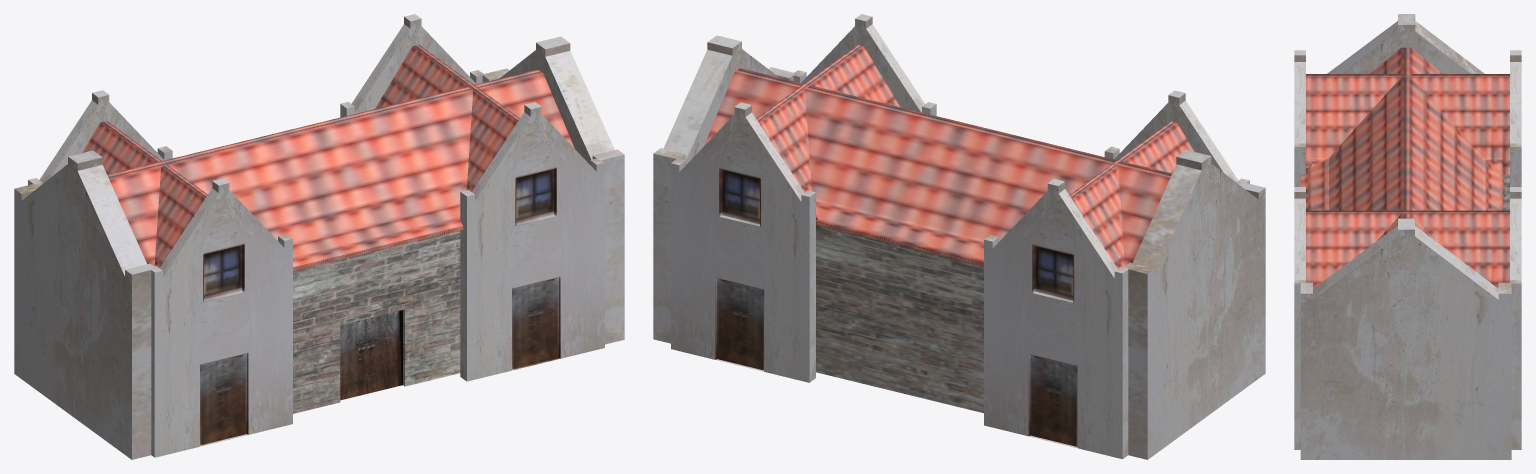
The picture shows the model from 3 angles, left to right: view 1: azimuth 30°, elevation 25°; view 2: azimuth 150°, elevation 25°; view 3: azimuth 270°, elevation 25°; orthographic projection. The views are drawn at different scales.
Parts seen in each view (by area): view 1: Houseyoko_House1_pPrism3; view 2: Houseyoko_House1_pPrism3; view 3: Houseyoko_House1_pPrism3.
Boxes of the visible parts, left/top/right/bottom form: Houseyoko_House1_pPrism3: left=14, top=14, right=624, bottom=459; Houseyoko_House1_pPrism3: left=653, top=14, right=1265, bottom=459; Houseyoko_House1_pPrism3: left=1294, top=14, right=1521, bottom=459.
Size of the model in its own units: 547 by 272 by 244.
